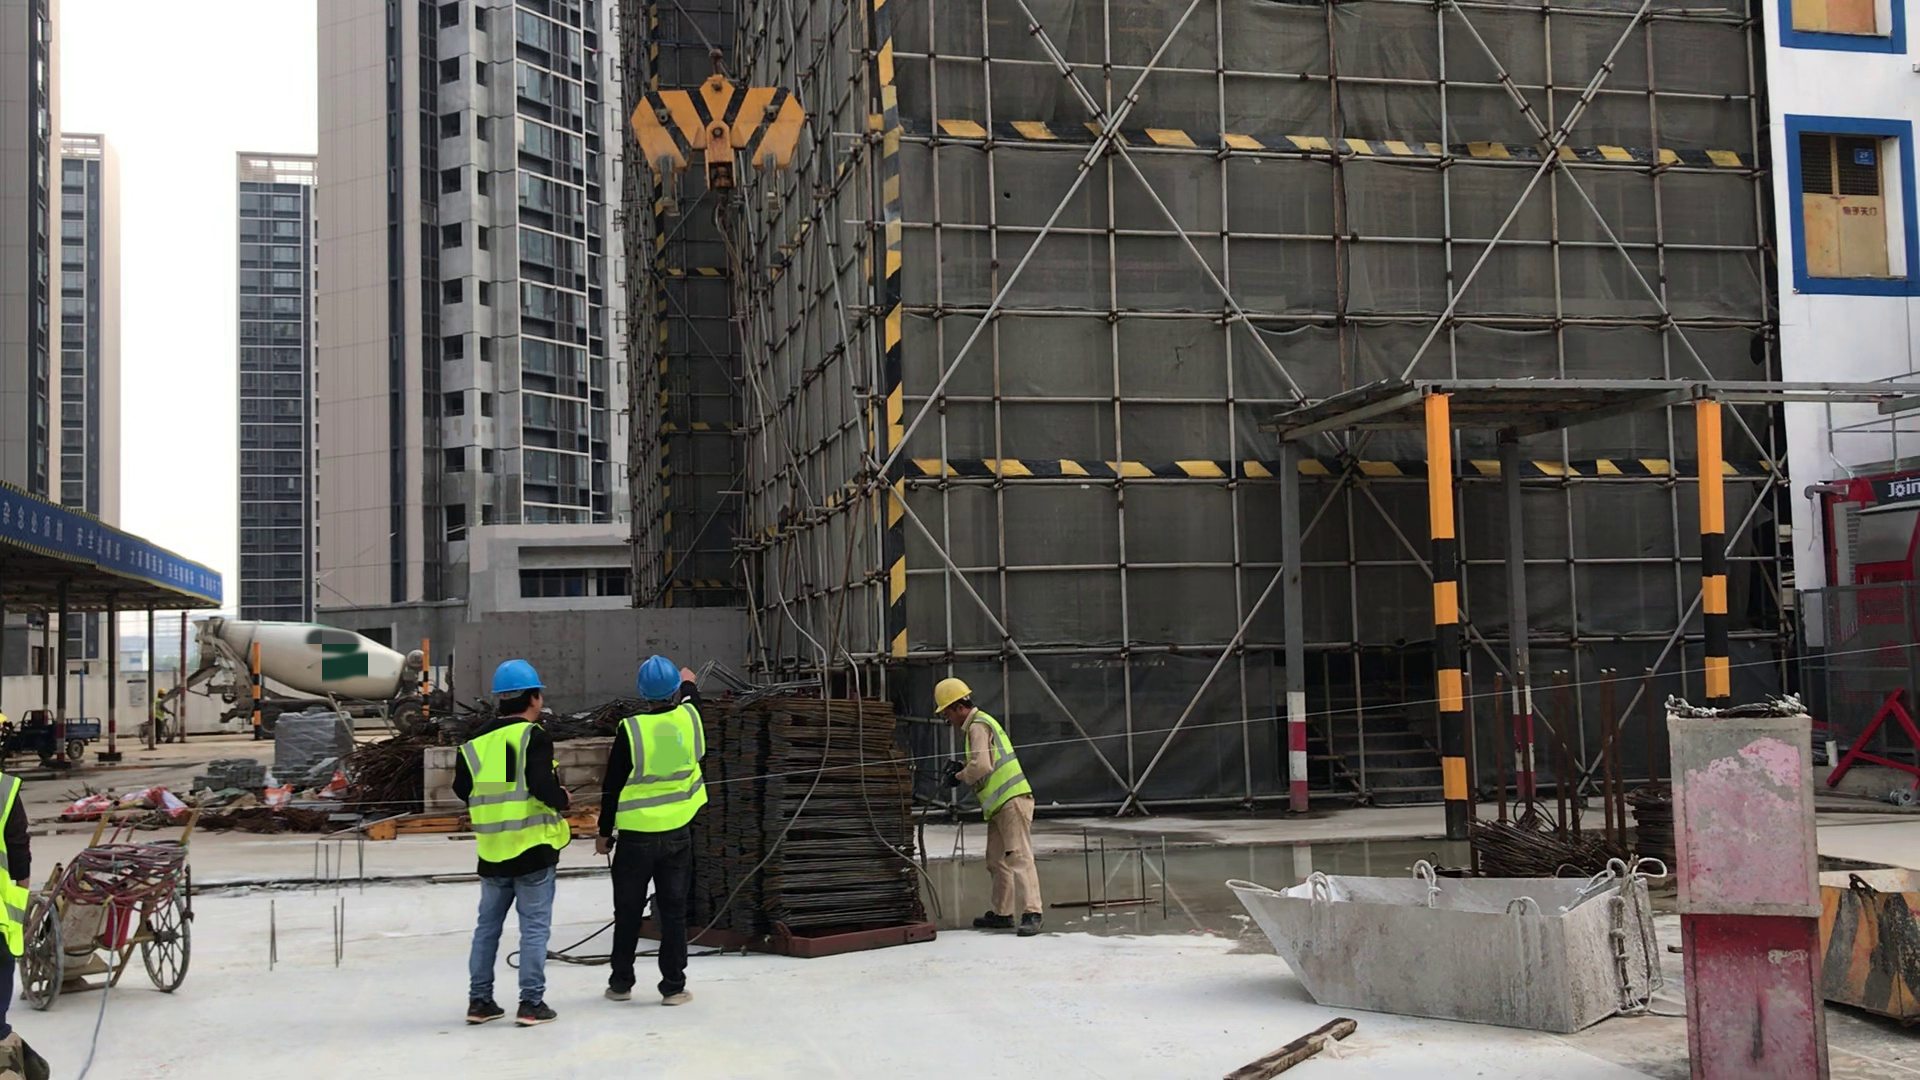handcart: (21, 797, 192, 997)
helmet: (488, 653, 554, 692), (636, 651, 677, 701), (931, 677, 971, 712)
hook: (632, 54, 809, 201)
hopper: (1223, 864, 1667, 1039)
person: (453, 657, 573, 1028), (593, 654, 709, 1009), (933, 681, 1045, 937), (155, 689, 176, 744)
rebar: (711, 692, 916, 942)
slogan: (1, 481, 223, 610)
vest: (459, 724, 570, 866), (611, 700, 711, 834), (963, 711, 1035, 816)
